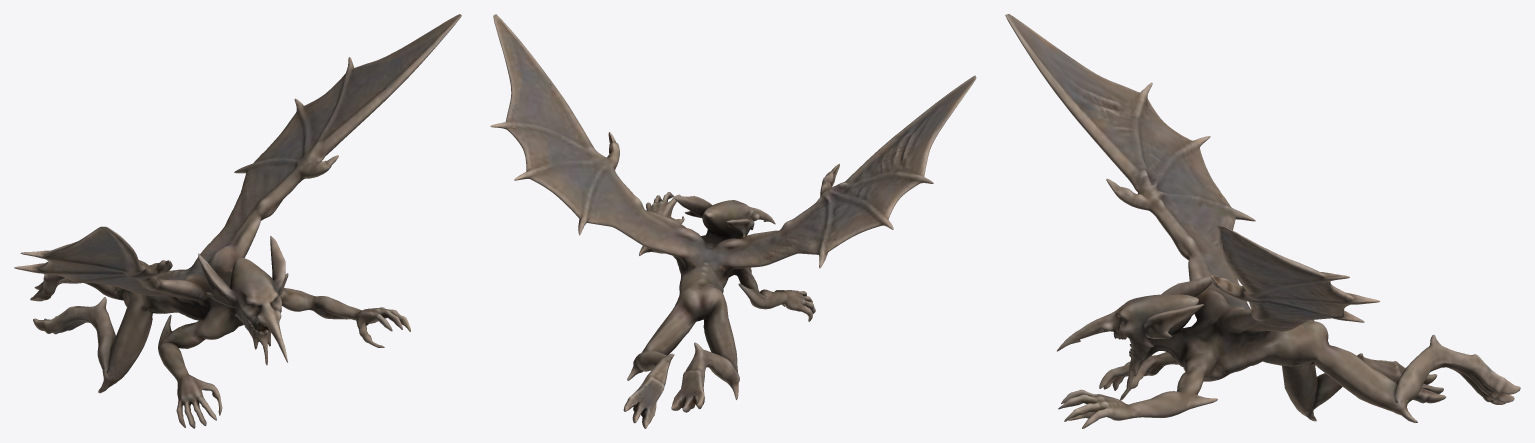
File: MZ4250 - Mud Mephit_4 2025.glb
The picture shows the model from 3 angles, left to right: view 1: azimuth 30°, elevation 25°; view 2: azimuth 150°, elevation 25°; view 3: azimuth 270°, elevation 25°; orthographic projection. The views are drawn at different scales.
Parts seen in each view (by area): view 1: Cylinder.001; view 2: Cylinder.001; view 3: Cylinder.001.
Part boxes in pixels (x1=…): Cylinder.001: x1=14, y1=14, x2=461, y2=428; Cylinder.001: x1=490, y1=14, x2=976, y2=428; Cylinder.001: x1=1005, y1=14, x2=1520, y2=428.
Size of the model in its own units: 123 by 82.81 by 105.
1 material, 1 textured.
